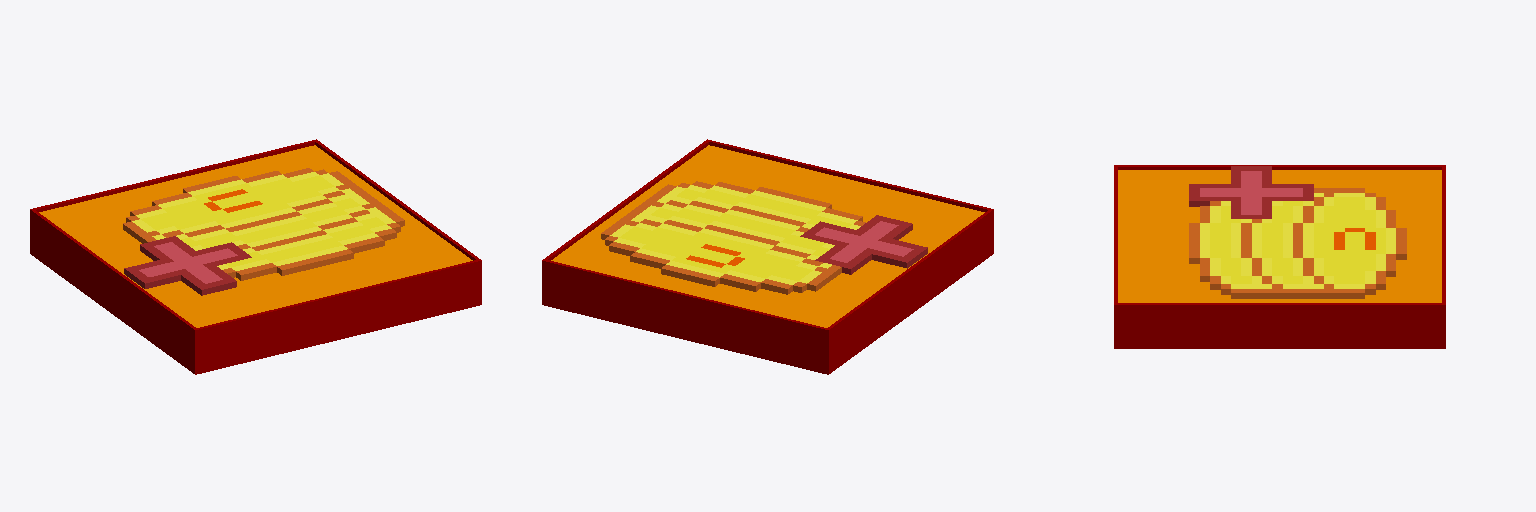
3 views of the same model, side by side, from view 1: azimuth 30°, elevation 25°; view 2: azimuth 150°, elevation 25°; view 3: azimuth 270°, elevation 25° (orthographic).
Parts seen in each view (by area): view 1: object 1; view 2: object 1; view 3: object 1.
Boxes of the visible parts, x1,y1,x2,y2 form: object 1: [30, 139, 481, 374]; object 1: [542, 139, 993, 374]; object 1: [1114, 165, 1445, 348].
Size of the model in its own units: 25.6 by 4 by 25.6.
1 materials, 1 textured.